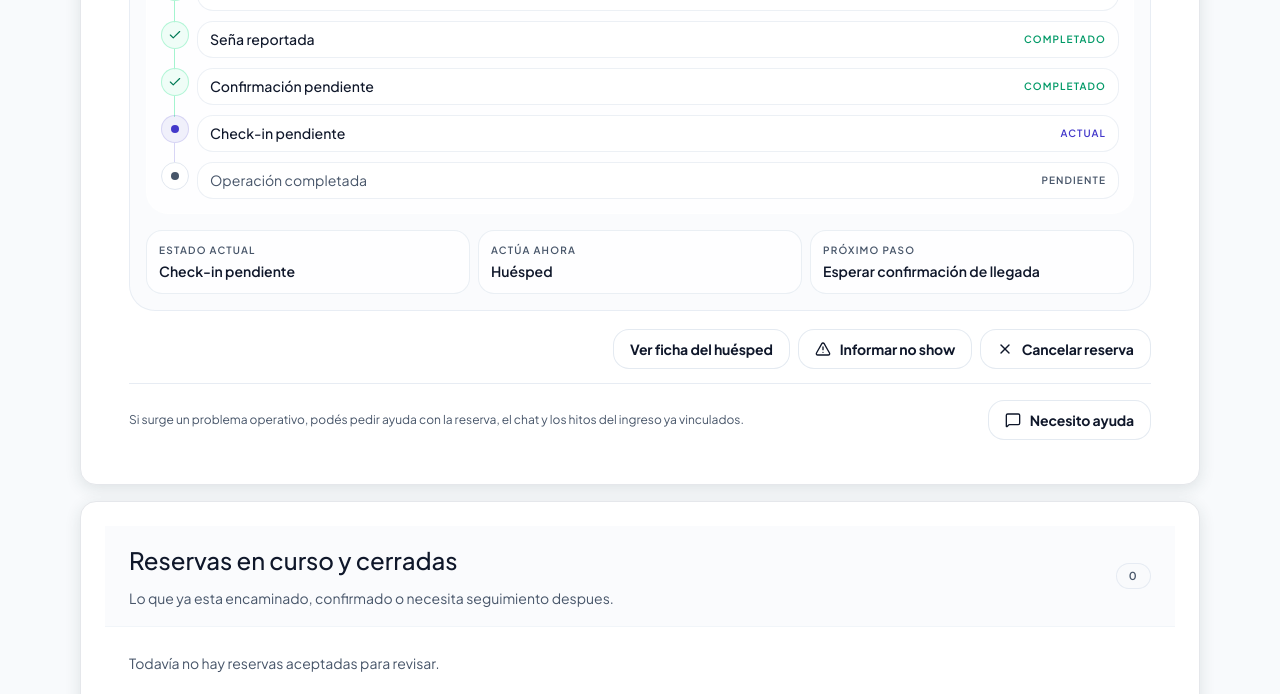
HostDashboard › lets the host mark a protected no show and keeps the deposit pending confirmation
(page scrolled)
Click the button "Informar no show".
click(885, 349)  # box [798,329,972,369]
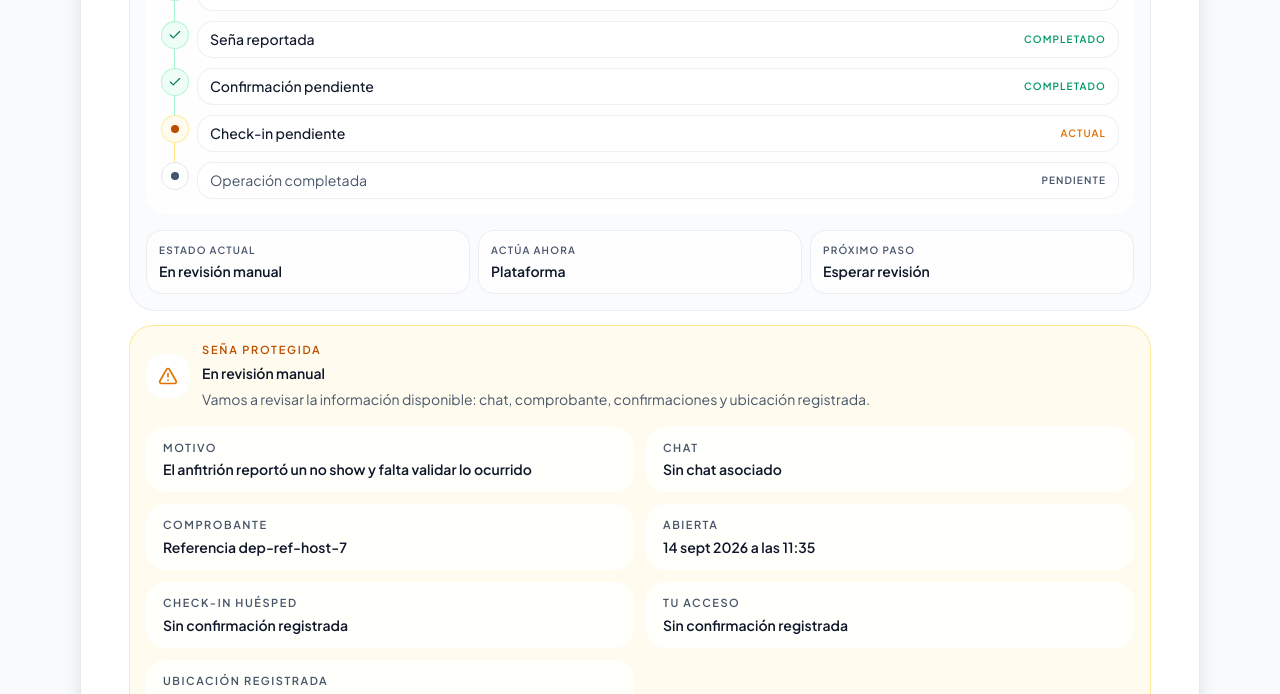
Check: the text "El anfitrión reportó un no show y falta validar lo ocurrido" is shown, box [163,460,532,478]
Check: the text "Referencia dep-ref-host-7" is shown, box [163,538,347,556]
